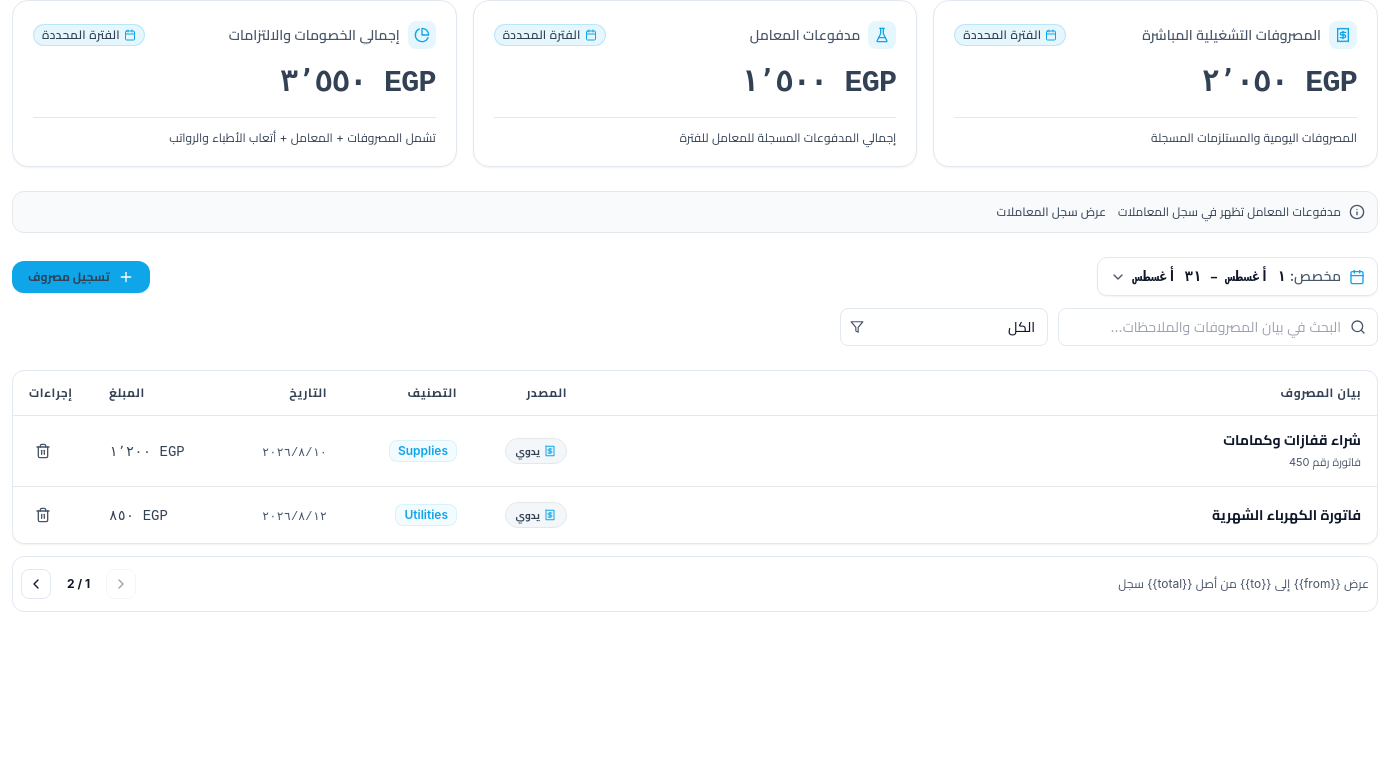
Test case: Finance Expenses V2 › <ExpensesPage /> › renders expense list, provenance badge, and summary metrics
The width and height of the screenshot is (1390, 768).
Expected: the heading "المصروفات التشغيلية المباشرة" is shown, [1142,25,1321,45]
Expected: the heading "مدفوعات المعامل" is shown, [750,25,860,45]
Click the button named "الصفحة التالية".
click(36, 584)  # box [21,569,51,599]
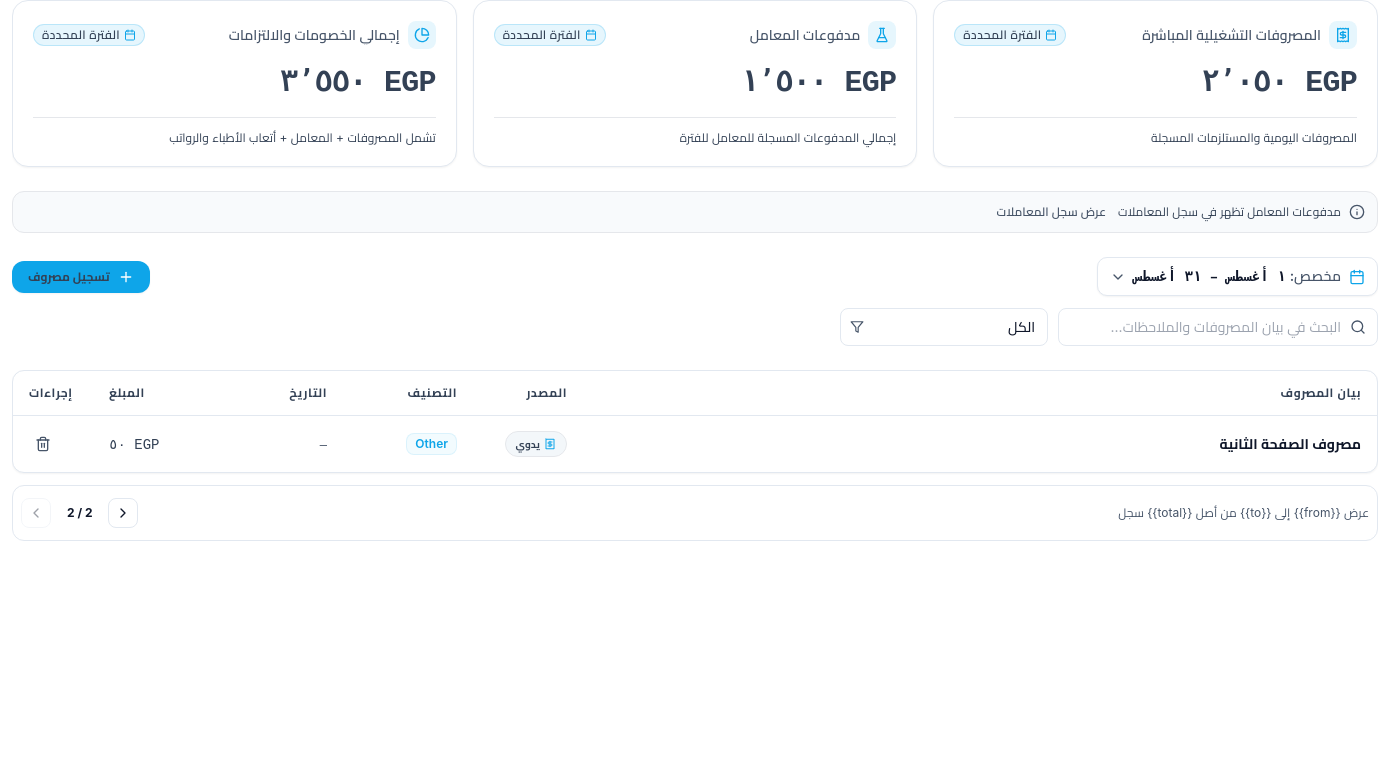
Result: the text "مصروف الصفحة الثانية" is shown at [1219,435,1361,452]
